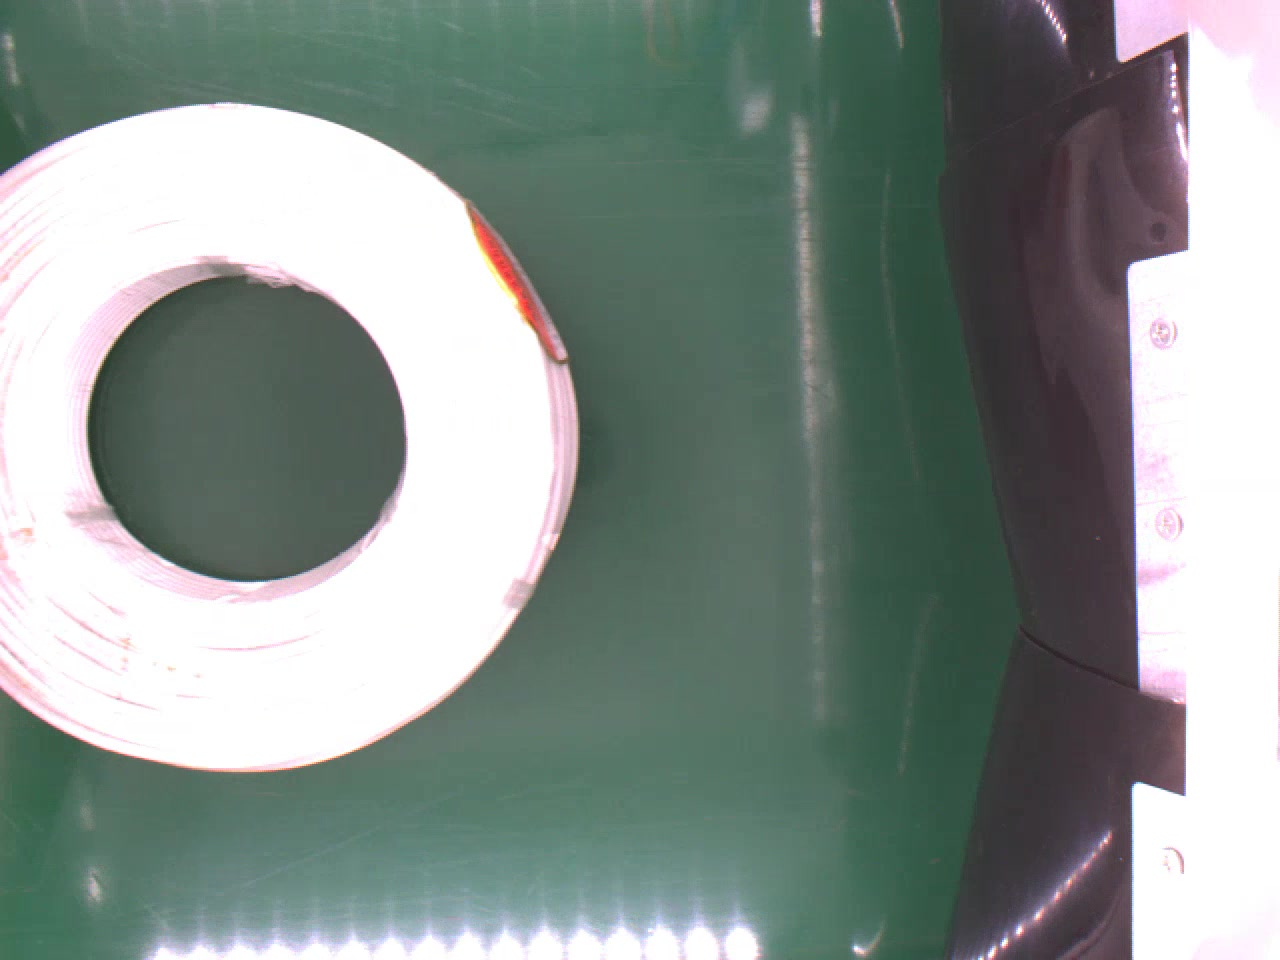white: (0, 92, 588, 768)
